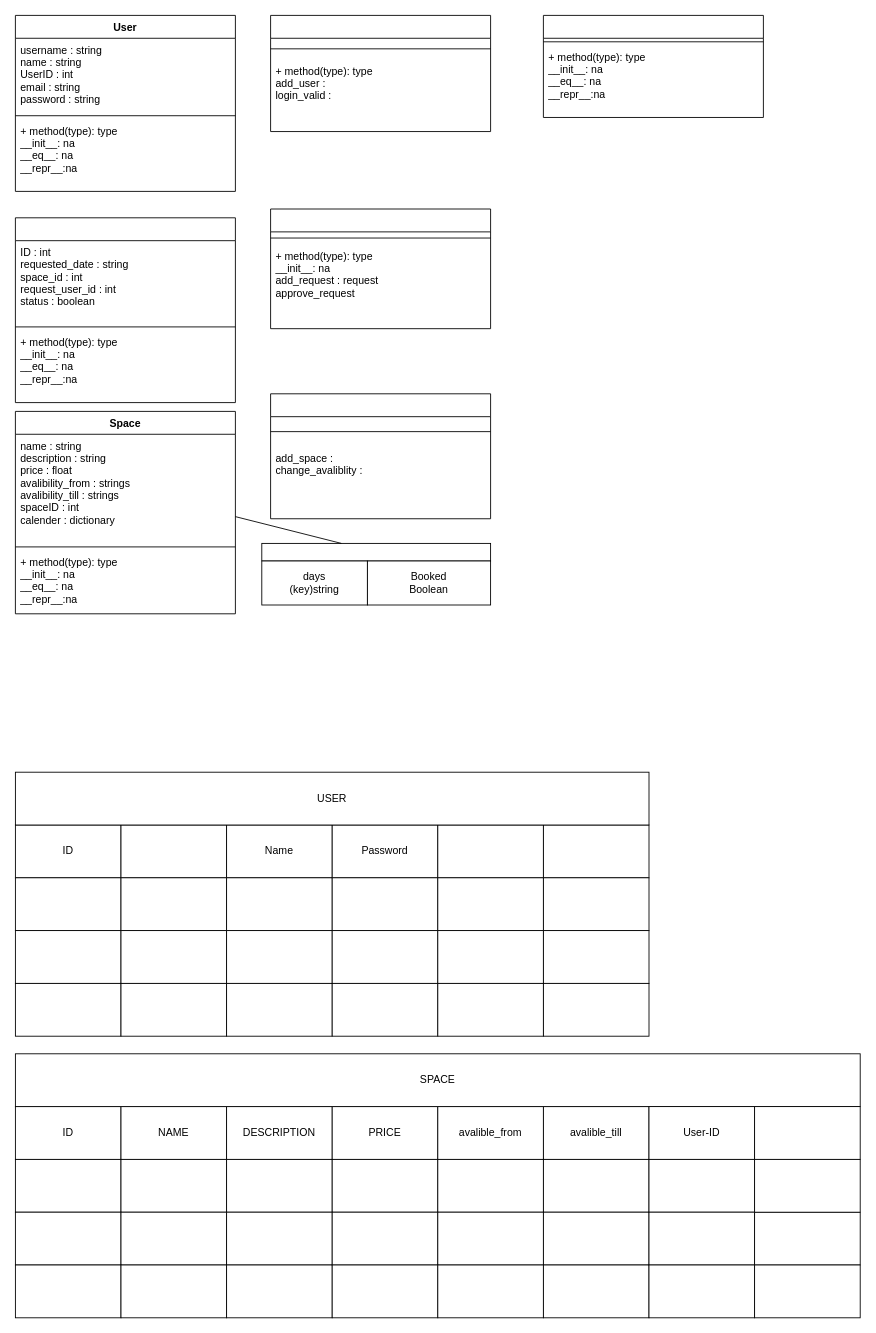
Image size: 876x1333. Some labels were removed from this diagram. The shapes that lost their labels are listed below. From the top down, each one's box as (x1, y1, x2, y2) in pixels, then its label:
(270, 15, 491, 132): User_repository
(543, 15, 763, 117): App.py
(270, 208, 491, 329): Requests_repository
(15, 217, 235, 403): Requests
(270, 393, 491, 519): Space_repository
(261, 543, 491, 561): Calendar Dictionary
(120, 824, 227, 878): Username
